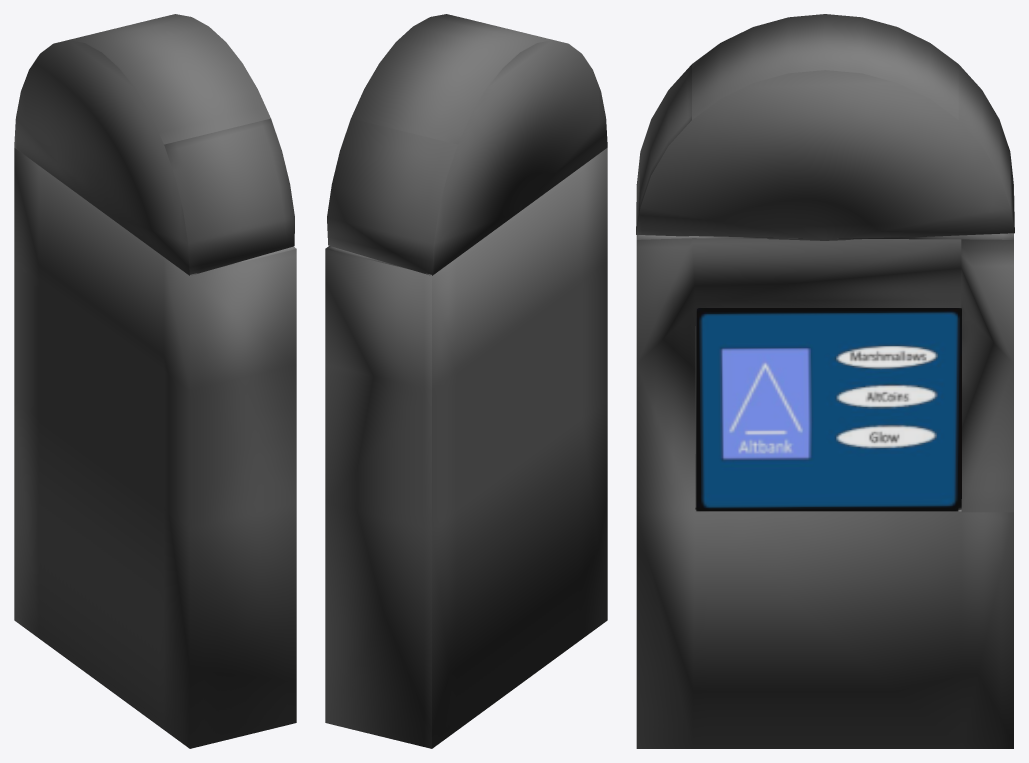
Rendered from alt-m.dae.
The picture shows the model from 3 angles, left to right: view 1: azimuth 30°, elevation 25°; view 2: azimuth 150°, elevation 25°; view 3: azimuth 270°, elevation 25°; orthographic projection. The views are drawn at different scales.
Visible parts, largest first — view 1: Plane; view 2: Plane; view 3: Plane.
Boxes of the visible parts, left/top/right/bottom form: Plane: left=14, top=14, right=296, bottom=748; Plane: left=325, top=14, right=607, bottom=748; Plane: left=636, top=14, right=1014, bottom=748.
Bounding box in the file's own units: 0.0741 × 0.2116 × 0.4182.
Materials: 1 (1 with a texture image).
